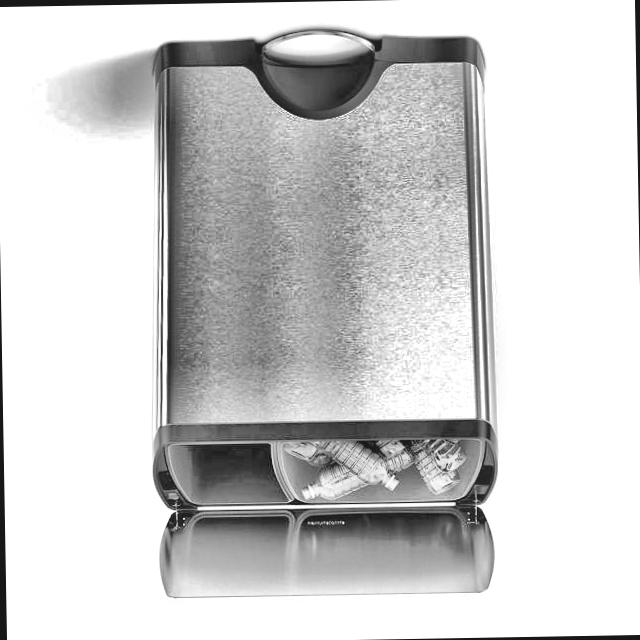Bottle-Disposed: (145, 411, 488, 518)
Dustbin: (124, 41, 504, 598)
Plastic-Bottle: (307, 433, 404, 498), (410, 433, 460, 497)
